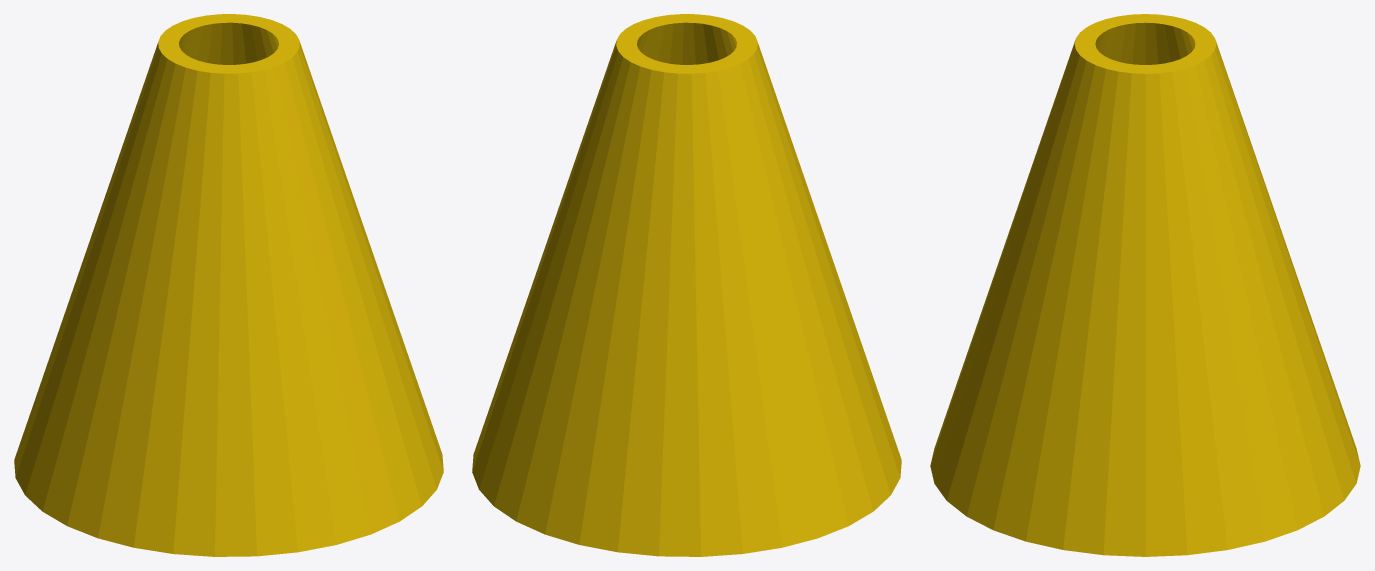
Rendered from Horn Component.fbx.
3 renders of one model, left to right at view 1: azimuth 30°, elevation 25°; view 2: azimuth 150°, elevation 25°; view 3: azimuth 270°, elevation 25°, orthographic.
Visible parts, largest first — view 1: Horn; view 2: Horn; view 3: Horn.
Part boxes in pixels (x1,y1,x2,y2): Horn: (14,14,443,556); Horn: (472,14,901,556); Horn: (930,14,1360,556).
Size of the model in its own units: 0.7286 by 0.7884 by 0.7286.
